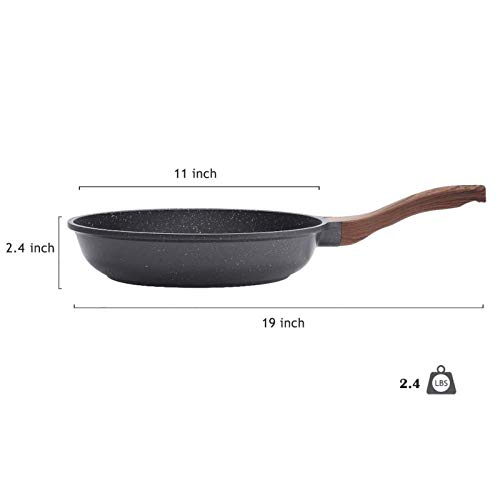11: (175, 169, 185, 178)
19: (263, 318, 275, 328)
2.4: (7, 243, 24, 253)
inch: (192, 168, 216, 178), (30, 243, 54, 253), (280, 318, 304, 328)
